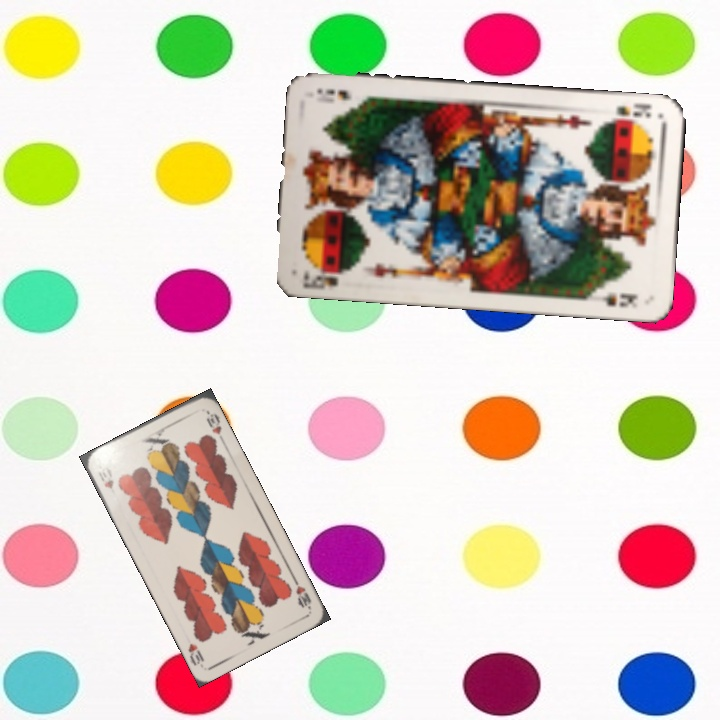H10: (289, 574, 314, 612), (94, 462, 116, 491)
SK: (299, 263, 354, 291), (612, 99, 654, 120)
